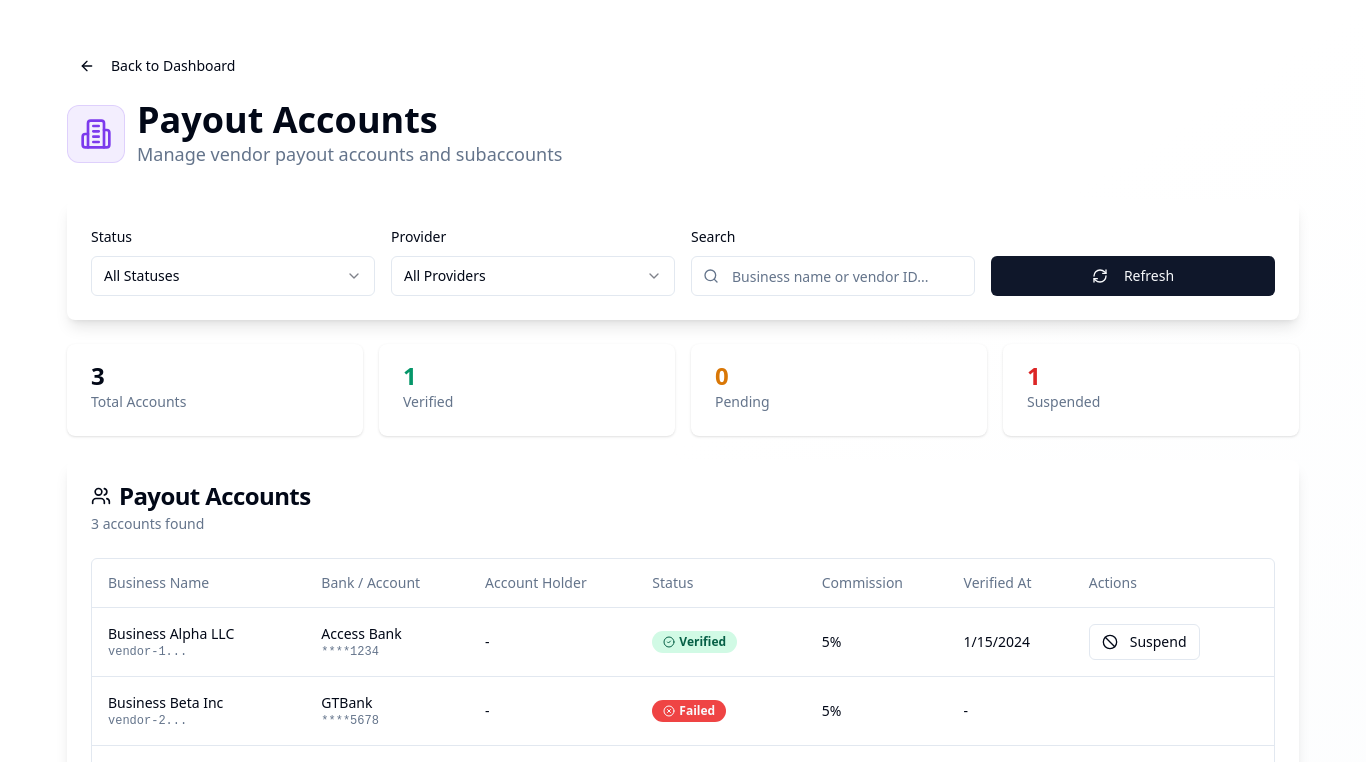
AdminPayoutAccounts › Suspend Account › opens suspend dialog when clicking suspend button
Expected: the text "Business Alpha LLC vendor-1..." is shown, 92,607 -> 305,676
// Find suspend button for verified account
Click the button "Suspend".
click(1144, 642)  # box 1089,624 -> 1200,660
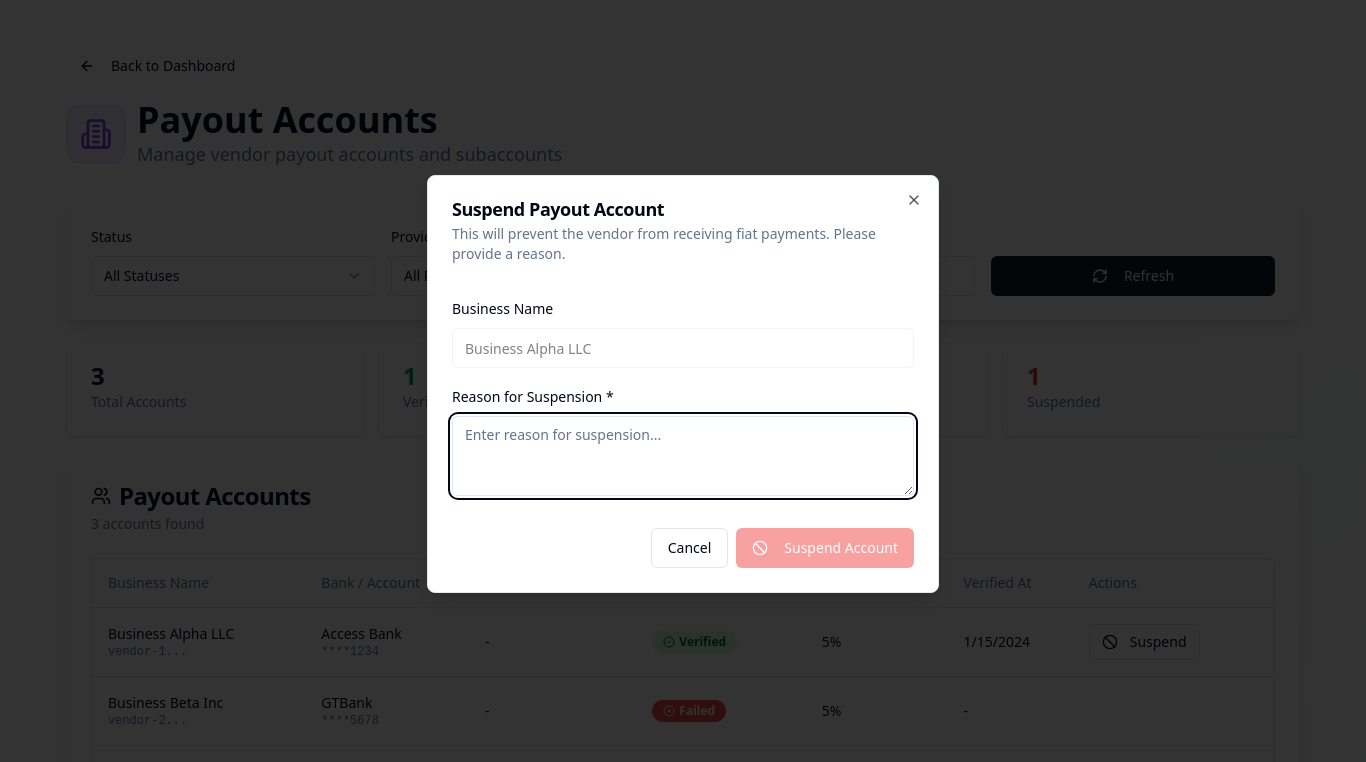
Now the heading "Suspend Payout Account" is shown, box 452,197 -> 664,221
Now the text box with placeholder "Enter reason for suspension..." is shown, box 452,416 -> 914,496
